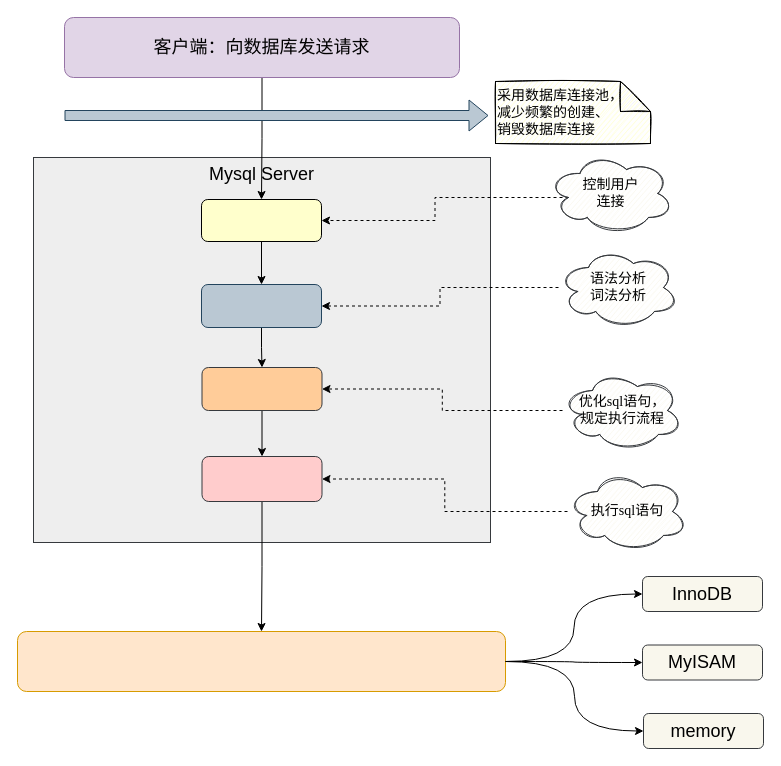
The diagram is 781 pixels wide and 766 high, and some of its shapes have lost their labels. The box of each missing label's shape, as (x1, y1, x2, y2) in pixels:
优化器: (201, 366, 322, 410)
储存引擎：不同的引擎，数据存放的格式和位置都不相同: (16, 630, 506, 692)
分析器: (200, 284, 322, 328)
执行器: (201, 456, 322, 502)
连接器: (200, 198, 322, 242)
